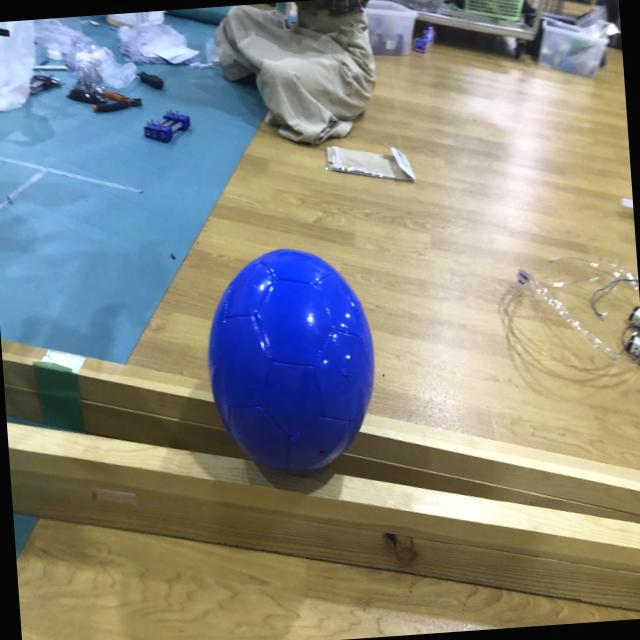blue_ball: (188, 234, 386, 498)
